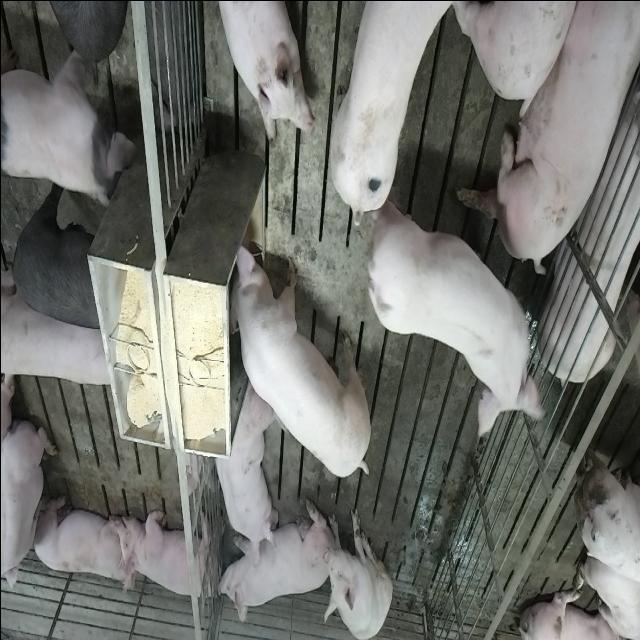Feeding: (220, 235, 368, 478)
Lateral_lying: (464, 0, 640, 271), (542, 67, 640, 385)
Sitting: (321, 503, 392, 639)
Standing: (364, 163, 542, 441), (323, 0, 464, 220), (0, 38, 119, 203), (10, 187, 104, 336), (2, 274, 116, 384), (34, 2, 123, 65)
Sternal_lying: (214, 500, 327, 630), (210, 0, 311, 140), (210, 382, 274, 557), (2, 412, 56, 600), (30, 492, 130, 588), (118, 505, 215, 603)
